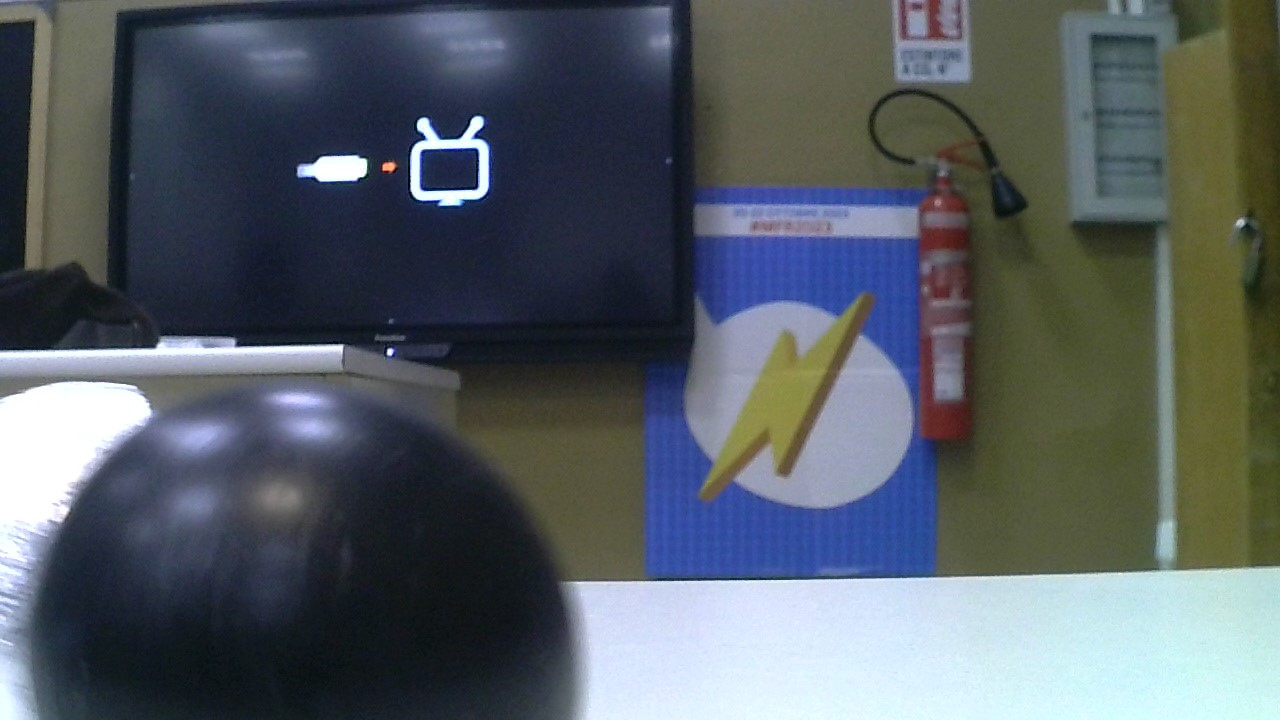black_ball: (23, 395, 584, 720)
